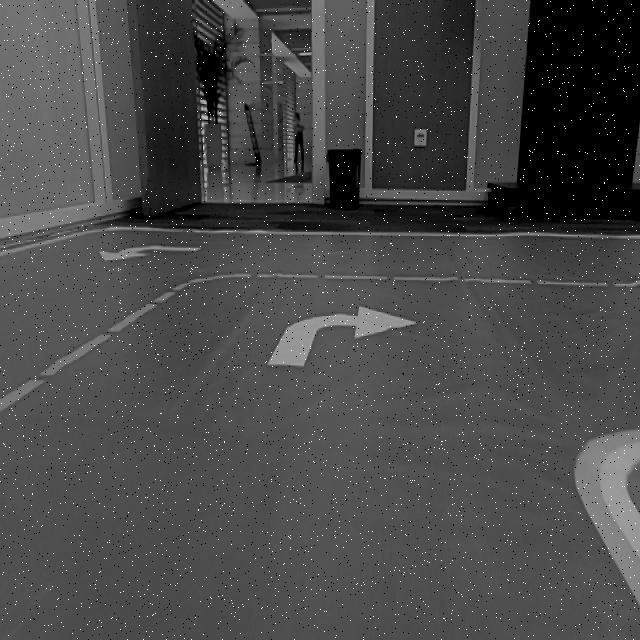left_lane: (0, 286, 181, 414)
right_lane: (576, 484, 640, 604)
